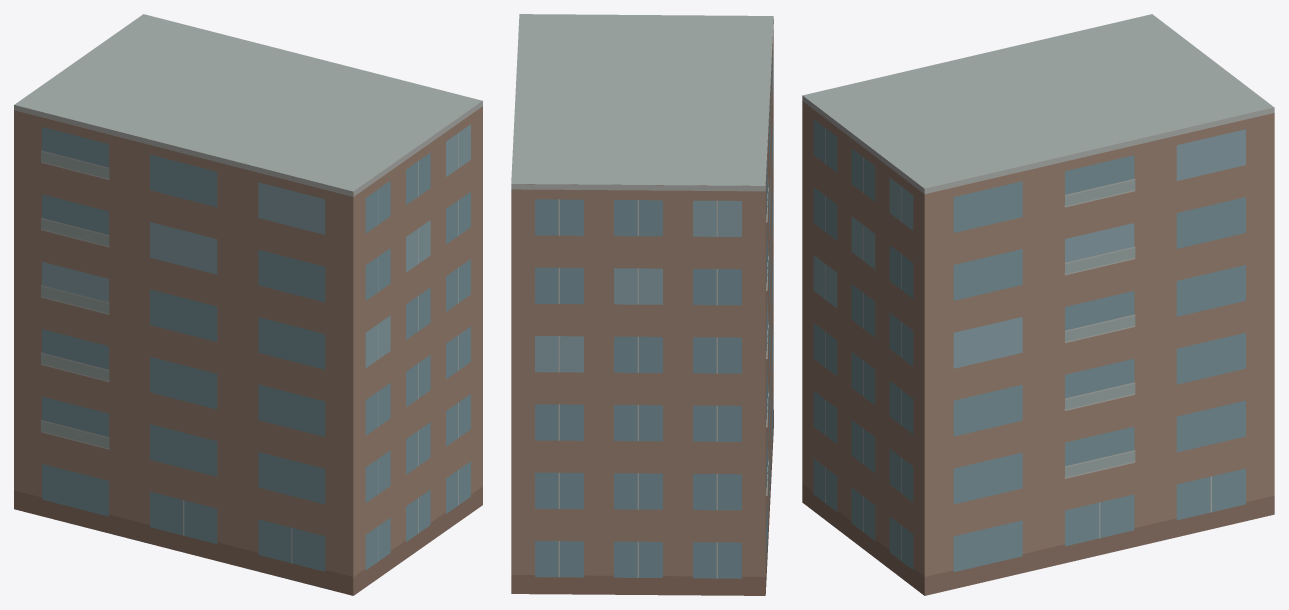
Rendered from survey-upis-32959437.glb.
3 views of the same model, side by side, from view 1: azimuth 30°, elevation 25°; view 2: azimuth 150°, elevation 25°; view 3: azimuth 270°, elevation 25° (orthographic).
Parts seen in each view (by area): view 1: survey-upis-32959437.tmp; view 2: survey-upis-32959437.tmp; view 3: survey-upis-32959437.tmp.
Part boxes in pixels (left/top/right/bottom): survey-upis-32959437.tmp: left=14, top=14, right=482, bottom=595; survey-upis-32959437.tmp: left=511, top=14, right=773, bottom=595; survey-upis-32959437.tmp: left=802, top=14, right=1274, bottom=595.
Bounding box in the file's own units: 16.86 × 18.3 × 19.24.
